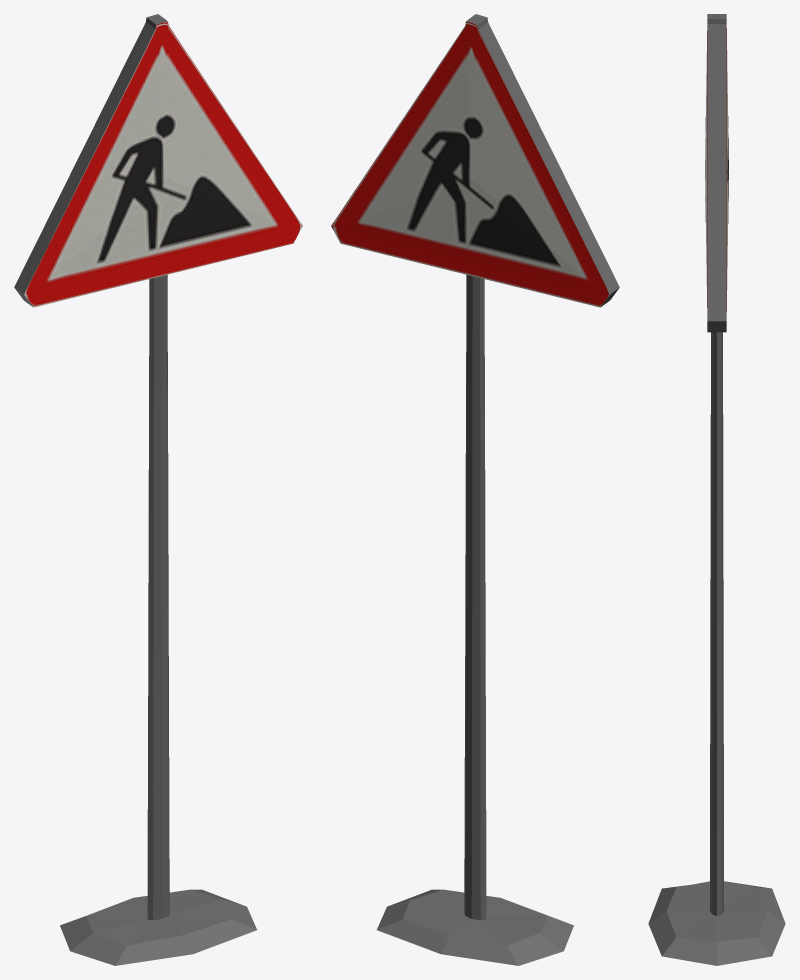
Rendered from Sign_Werkzaamheden.fbx.
3 views of the same model, side by side, from view 1: azimuth 30°, elevation 25°; view 2: azimuth 150°, elevation 25°; view 3: azimuth 270°, elevation 25° (orthographic).
Parts seen in each view (by area): view 1: Werkzaamheden_Sign; view 2: Werkzaamheden_Sign; view 3: Werkzaamheden_Sign.
Part boxes in pixels (<box>): Werkzaamheden_Sign: <box>14,14,302,965</box>; Werkzaamheden_Sign: <box>331,14,619,965</box>; Werkzaamheden_Sign: <box>648,14,785,965</box>.
Bounding box in the file's own units: 76.65 × 239 × 32.79.
